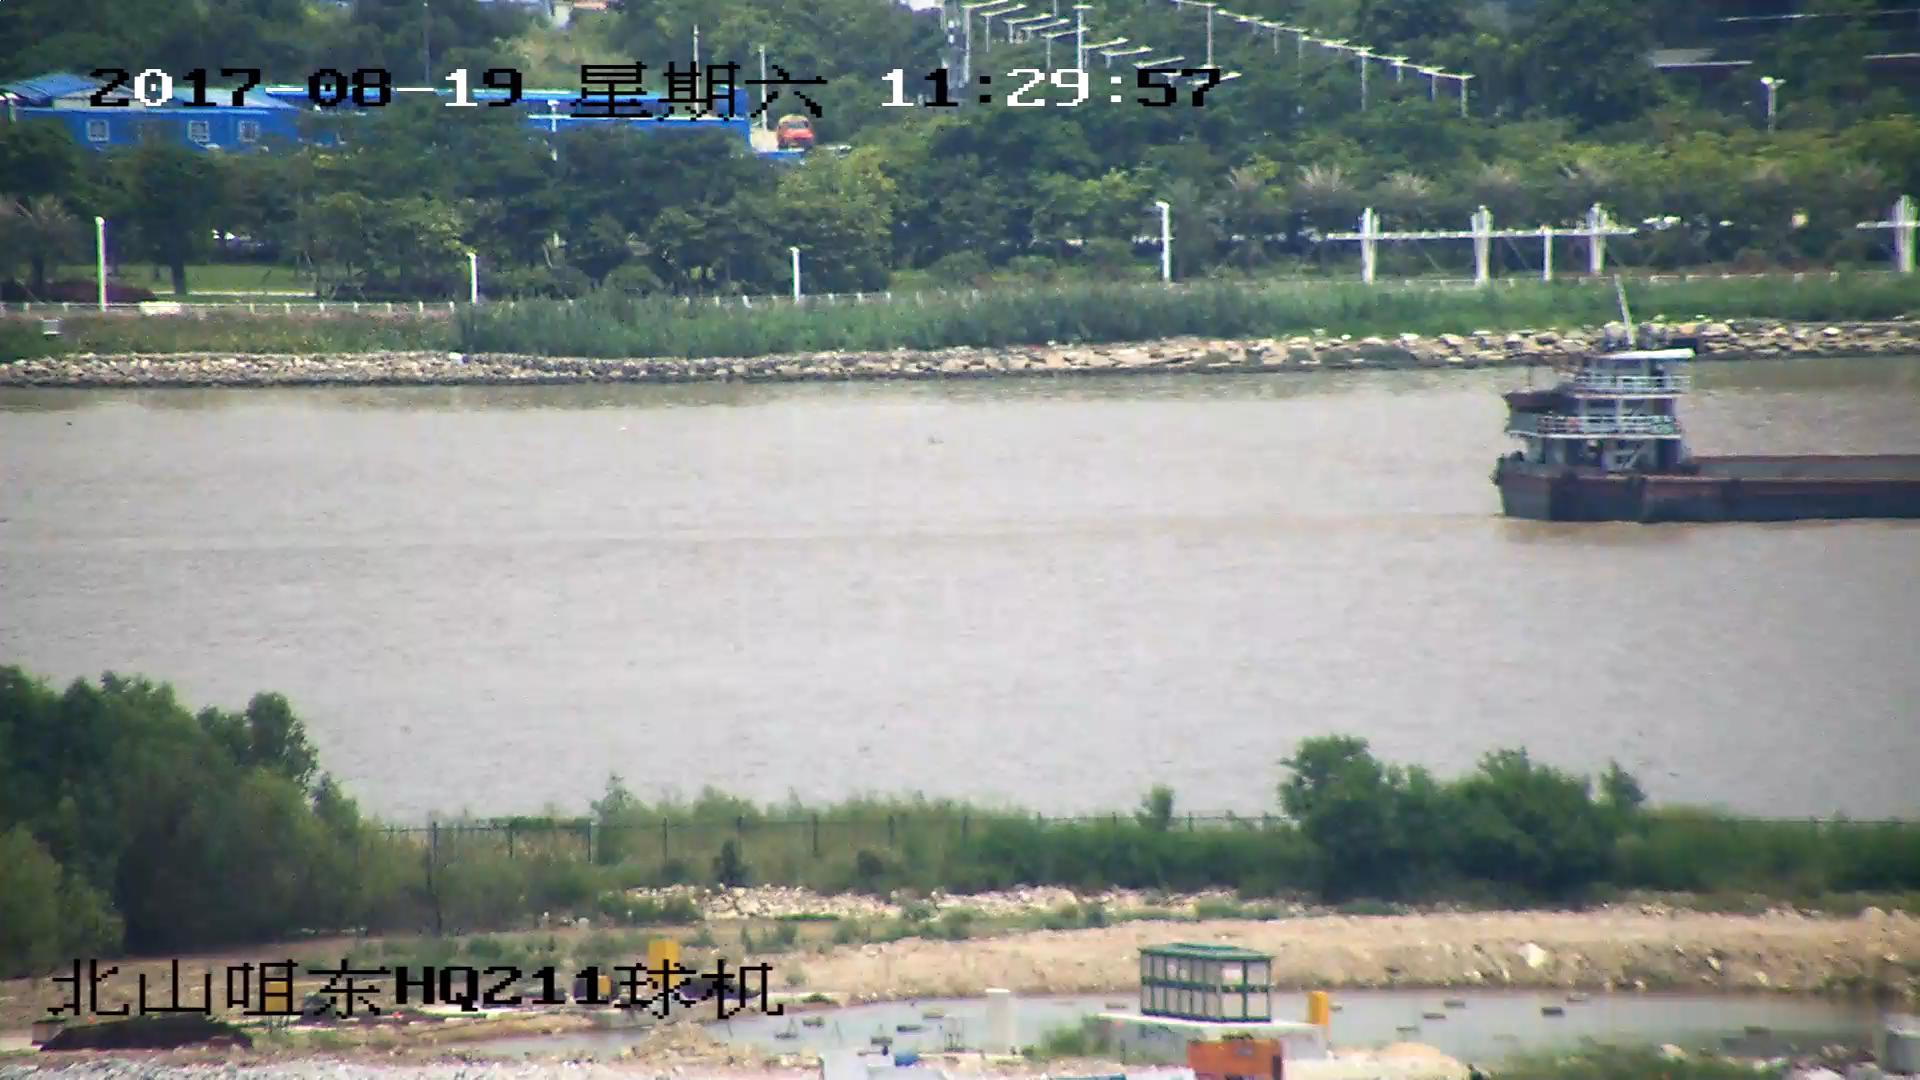Ship: (1497, 353, 1920, 520)
